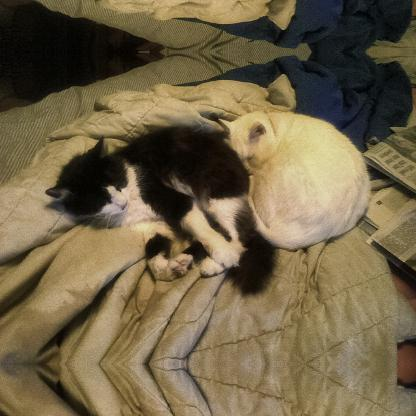Cat: (40, 133, 281, 299), (218, 106, 374, 252)
